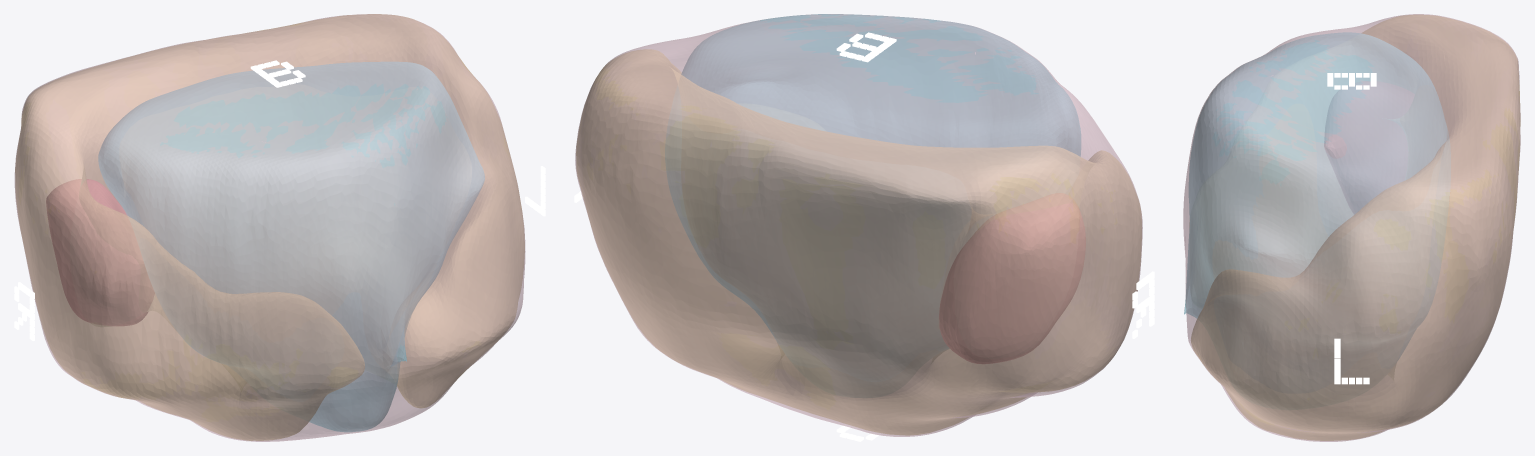
3 views of the same model, side by side, from view 1: azimuth 30°, elevation 25°; view 2: azimuth 150°, elevation 25°; view 3: azimuth 270°, elevation 25° (orthographic). The views are drawn at different scales.
Parts seen in each view (by area): view 1: prostate_gland, peripheral_zone, transition_zone, lesion_01, pv_ar_marker_B, pv_ar_marker_R; view 2: prostate_gland, peripheral_zone, transition_zone, lesion_01, pv_ar_marker_B, pv_ar_marker_R; view 3: prostate_gland, peripheral_zone, transition_zone, lesion_01, pv_ar_marker_B, pv_ar_marker_L.
Part boxes in pixels (x1,y1,x2,y2): prostate_gland: (14,14,525,441); peripheral_zone: (15,14,524,440); transition_zone: (98,62,484,431); lesion_01: (46,179,154,325); pv_ar_marker_B: (250,60,305,87); pv_ar_marker_R: (14,282,34,340); prostate_gland: (575,14,1142,436); peripheral_zone: (576,49,1141,435); transition_zone: (665,14,1080,344); lesion_01: (939,193,1085,363); pv_ar_marker_B: (836,32,896,62); pv_ar_marker_R: (1132,271,1154,338); prostate_gland: (1183,14,1520,441); peripheral_zone: (1189,15,1520,440); transition_zone: (1184,32,1450,363); lesion_01: (1324,81,1413,213); pv_ar_marker_B: (1327,73,1376,89); pv_ar_marker_L: (1334,338,1369,384).
Size of the model in its own units: 0.0478 by 0.0313 by 0.0291.
